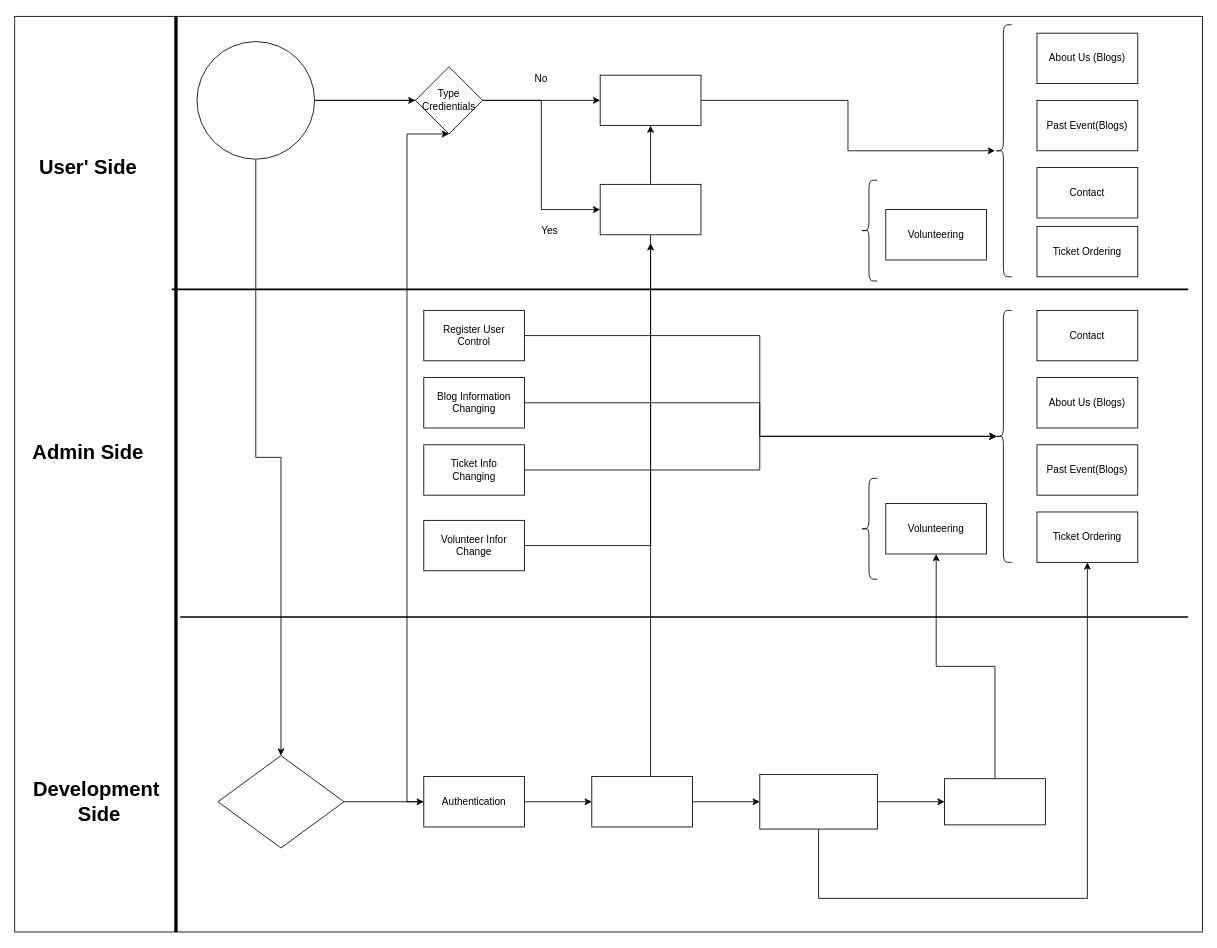
Image size: 1217x948. Some labels were removed from this diagram. Each missing label, with the centre of its shape:
Blogs IDs: the point at 642,801
Login?: the point at 280,801
Member Site Home: the point at 650,209
Ticket Ordering Operations: the point at 818,801
User Opens Website: the point at 255,100
Visitor Site Home: the point at 650,100
Volunteering Operations: the point at 994,801
